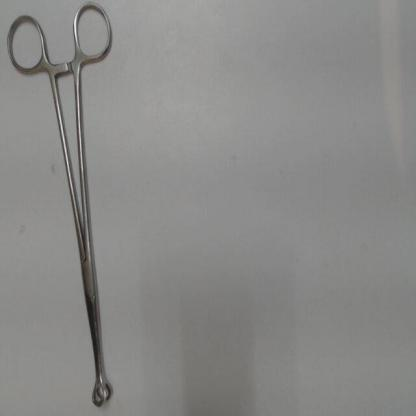8 Babcock Tissue Forceps: (2, 0, 118, 412)
